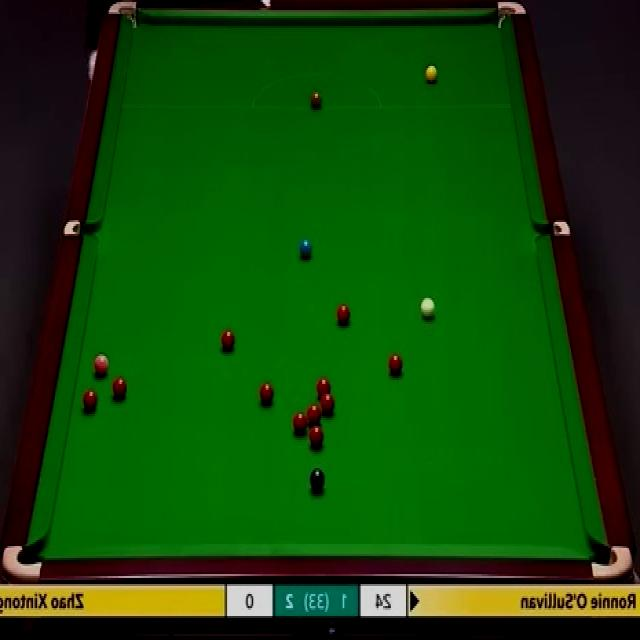pocket: (3, 542, 45, 582), (591, 545, 634, 580), (497, 0, 528, 31), (532, 220, 573, 240), (110, 0, 138, 29), (67, 215, 98, 237)
